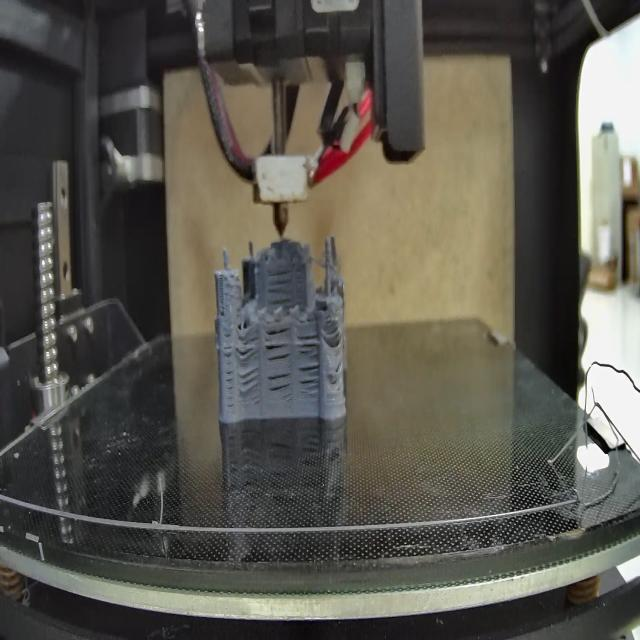cracks: (297, 326, 320, 398), (268, 260, 293, 308), (221, 332, 235, 412), (267, 324, 291, 365), (236, 366, 260, 402), (268, 373, 292, 404), (237, 332, 258, 360), (328, 357, 345, 388), (328, 321, 344, 349), (215, 297, 229, 320)
